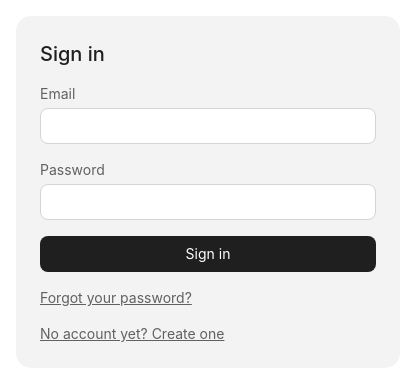
Test: AuthPage › has its own address for creating an account and links between the two pages
Click the link "No account yet? Create one".
click(132, 334)  # box [40,325,224,342]
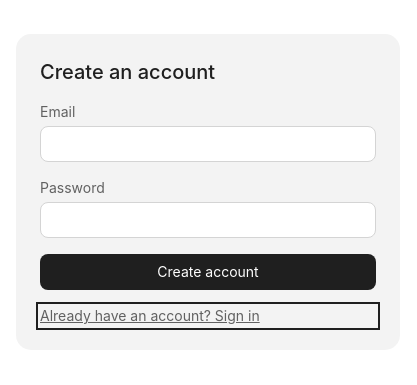
Check: the heading "Create an account" is shown, box [40,60,215,84]
Click the link "Already have an account? Sign in".
click(150, 316)  # box [40,307,260,324]
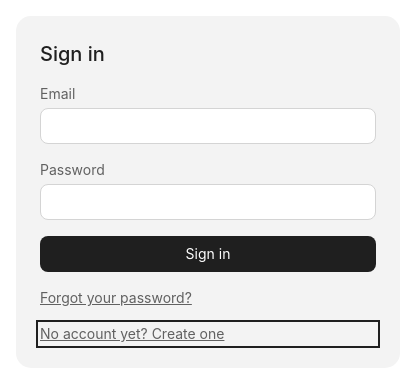
Check: the heading "Sign in" is shown, box [40,42,105,66]
